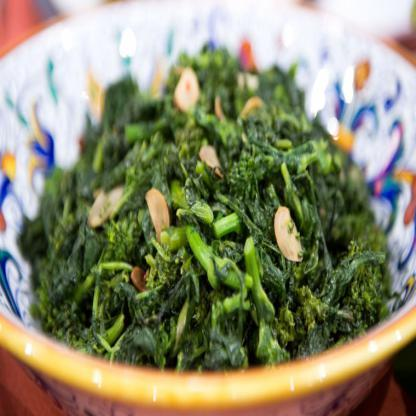broccoli: (15, 31, 387, 374)
